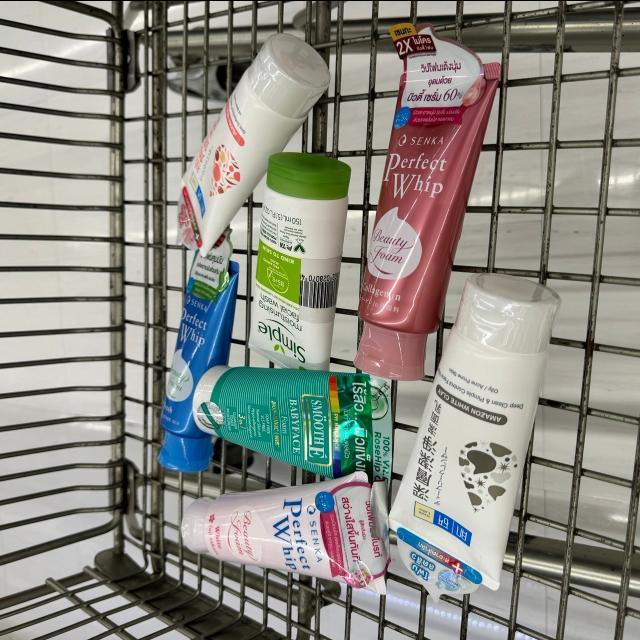Squeeze Tube: (389, 274, 559, 596), (354, 36, 500, 378), (176, 37, 335, 263), (180, 475, 386, 594), (243, 153, 353, 367), (188, 364, 397, 474), (159, 252, 238, 474)
